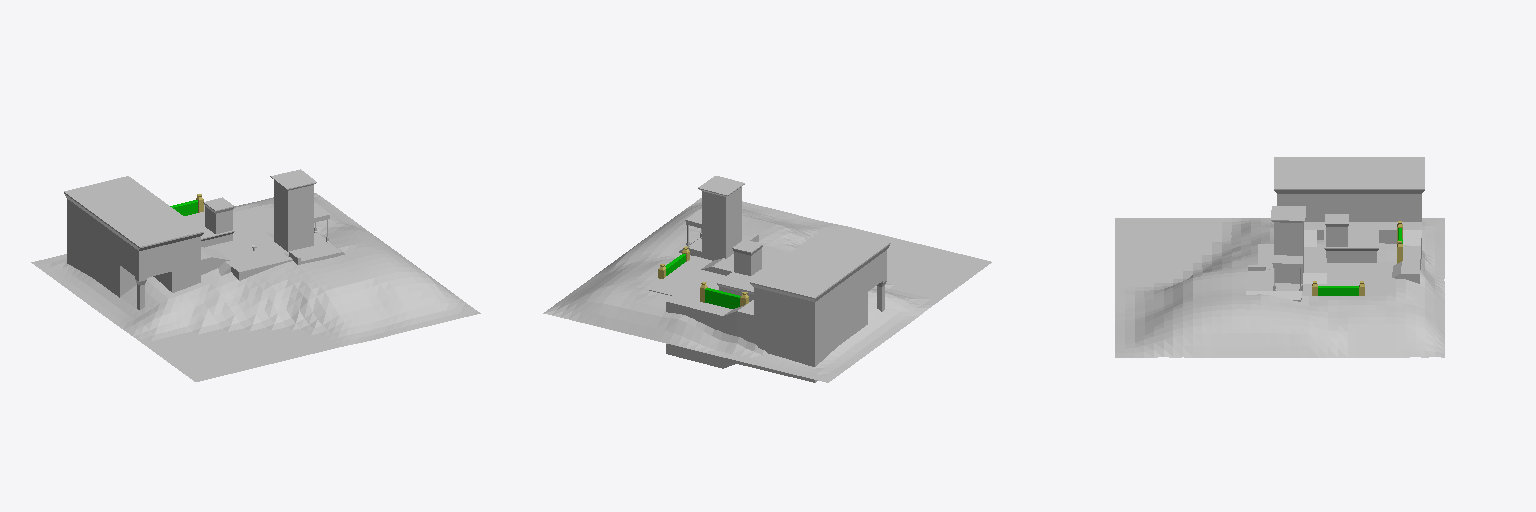
Rendered from italy.obj.
3 views of the same model, side by side, from view 1: azimuth 30°, elevation 25°; view 2: azimuth 150°, elevation 25°; view 3: azimuth 270°, elevation 25° (orthographic).
Visible parts, largest first — view 1: Grass, Cube.001, Cube, Cube.003, Cube.002, Cube.004; view 2: Grass, Cube.001, Cube, Cube.004, Cube.002, Cube.003, Hedge; view 3: Grass, Cube.001, Cube, Cube.002, Cube.004, Cube.003, Hedge.001.
Part boxes in pixels (x1,y1,x2,y2): Grass: (31,193,480,381); Cube.001: (64,176,229,309); Cube: (270,169,344,264); Cube.003: (205,232,292,280); Cube.002: (184,197,234,247); Cube.004: (233,206,273,239); Grass: (543,198,991,382); Cube.001: (666,227,890,382); Cube: (679,176,758,260); Cube.004: (648,256,725,300); Cube.002: (717,239,766,301); Cube.003: (701,245,790,275); Hedge: (700,282,748,308); Grass: (1115,218,1444,357); Cube.001: (1274,157,1424,283); Cube: (1246,206,1305,301); Cube.002: (1324,214,1378,262); Cube.004: (1302,262,1394,293); Cube.003: (1258,244,1326,283); Hedge.001: (1312,281,1364,295).
Bounding box in the file's own units: 80.04 × 33.99 × 80.05.